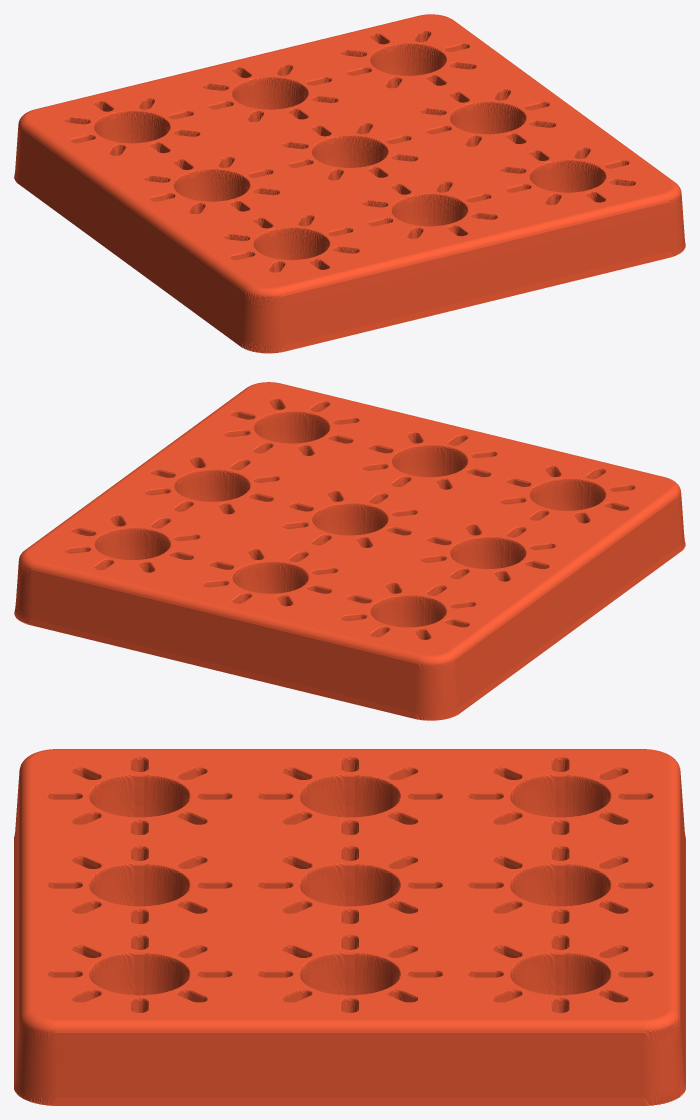
Rendered from mold.glb.
The picture shows the model from 3 angles, top to bottom: view 1: azimuth 30°, elevation 25°; view 2: azimuth 150°, elevation 25°; view 3: azimuth 270°, elevation 25°; orthographic projection. The views are drawn at different scales.
Parts seen in each view (by area): view 1: geometry_0; view 2: geometry_0; view 3: geometry_0.
Boxes of the visible parts, x1,y1,x2,y2 form: geometry_0: (14, 14, 685, 353); geometry_0: (14, 382, 685, 720); geometry_0: (14, 749, 685, 1105).
Bounding box in the file's own units: 0.1402 × 0.0182 × 0.1402.
